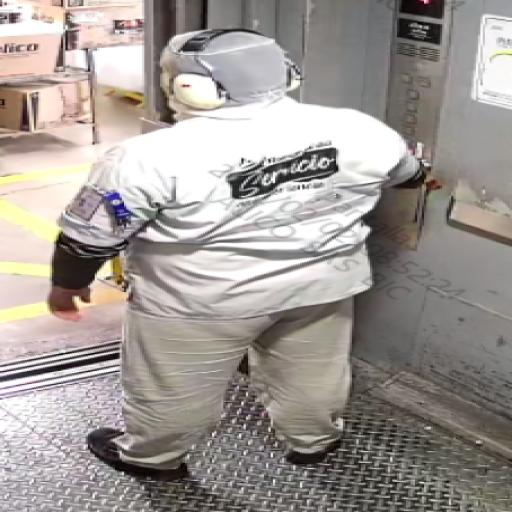person: (30, 14, 486, 486)
